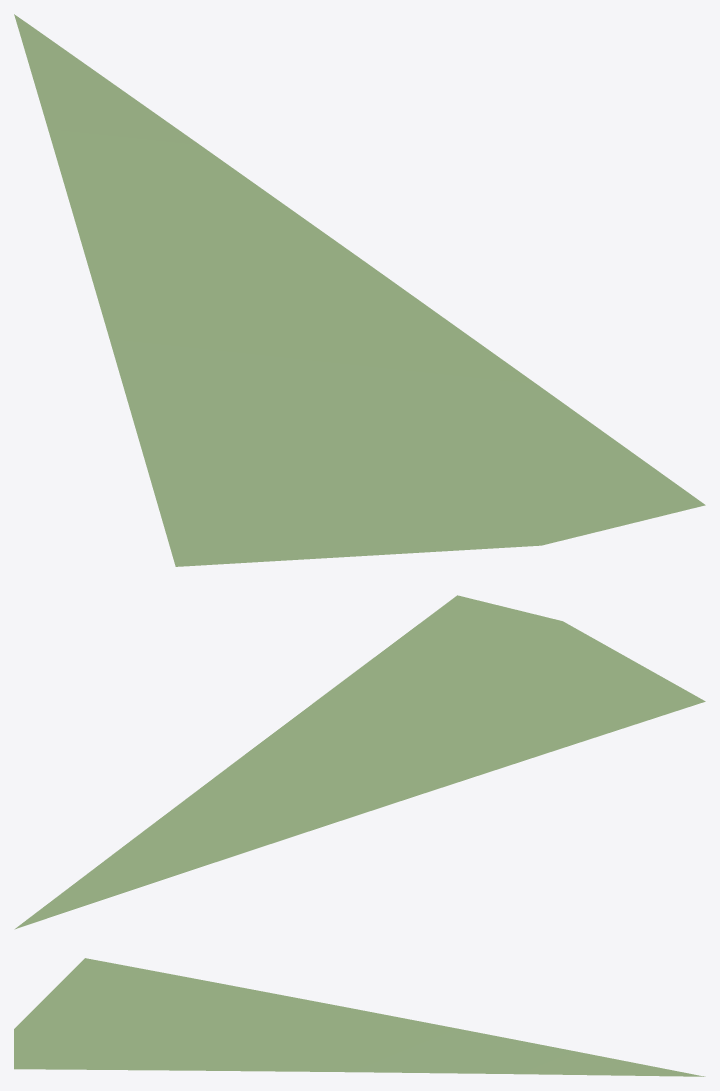
The model's file is bolak_-12_-21.glb.
3 views of the same model, one above another, from view 1: azimuth 30°, elevation 25°; view 2: azimuth 150°, elevation 25°; view 3: azimuth 270°, elevation 25° (orthographic). The views are drawn at different scales.
Visible parts, largest first — view 1: Yer_Maysa; view 2: Yer_Maysa; view 3: Yer_Maysa.
Boxes of the visible parts, box(x1,y1,x2,y2) form: Yer_Maysa: box(14, 14, 705, 566); Yer_Maysa: box(14, 595, 705, 929); Yer_Maysa: box(14, 958, 705, 1076).
Size of what is drawn, in the model's own units: 31.42 by 1 by 82.01.
